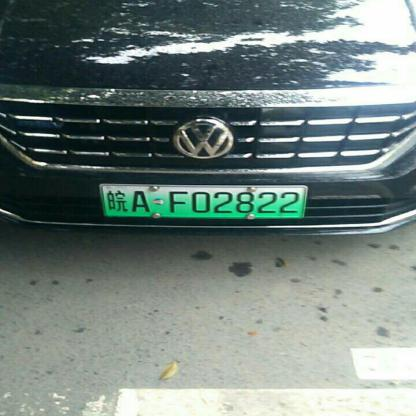lp: (100, 184, 306, 217)
